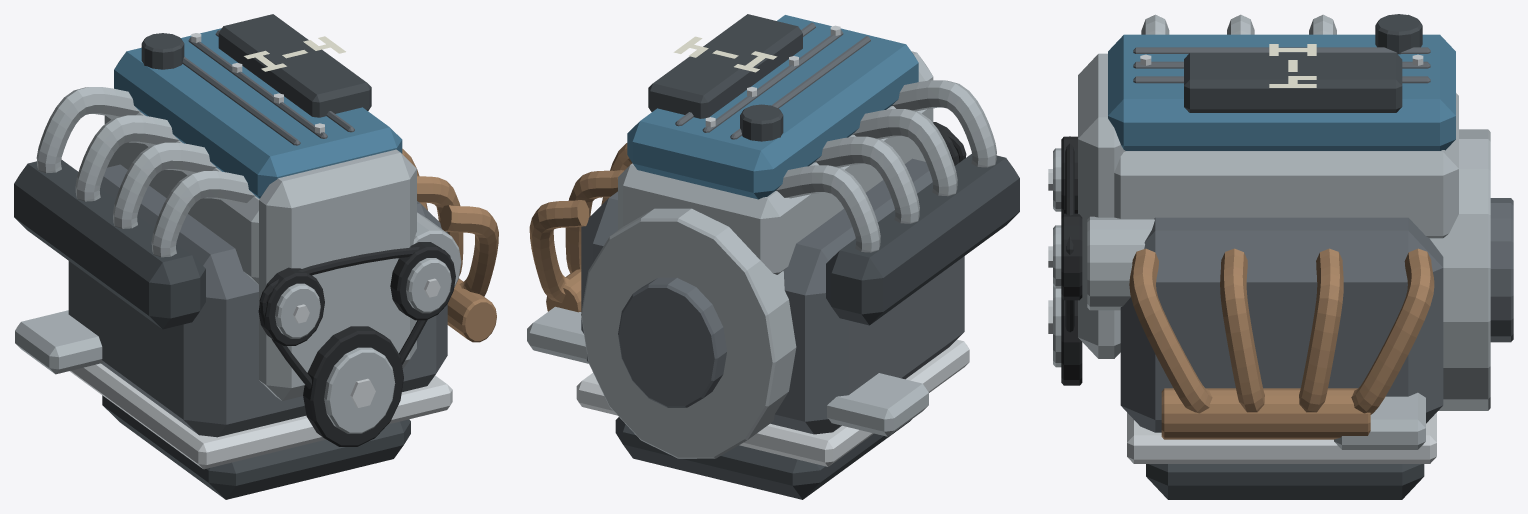
Rendered from stockengine.glb.
The picture shows the model from 3 angles, left to right: view 1: azimuth 30°, elevation 25°; view 2: azimuth 150°, elevation 25°; view 3: azimuth 270°, elevation 25°; orthographic projection. The views are drawn at different scales.
Parts seen in each view (by area): view 1: StockEngine; view 2: StockEngine; view 3: StockEngine.
Part boxes in pixels (x1,y1,x2,y2): StockEngine: (14, 14, 498, 499); StockEngine: (527, 14, 1019, 499); StockEngine: (1048, 14, 1513, 499).
Bounding box in the file's own units: 1.96 × 1.92 × 1.94.
